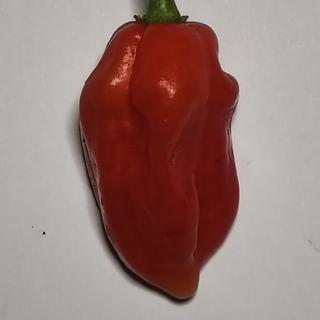Grade-A: (71, 13, 247, 306)
